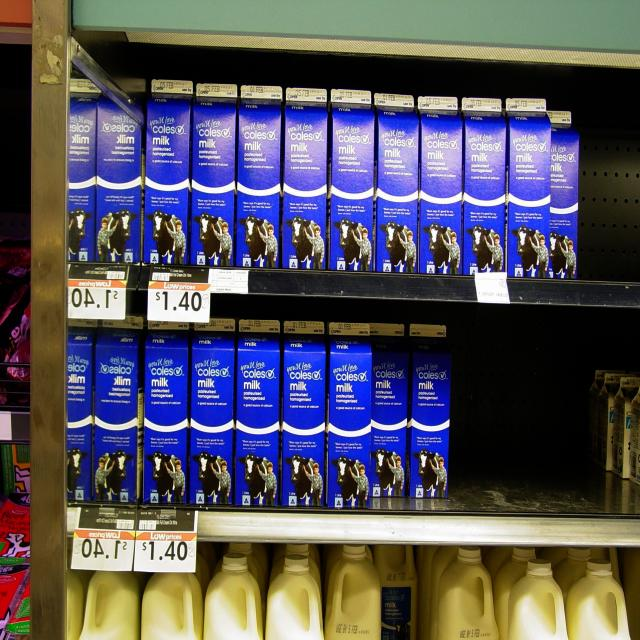empty_space: (458, 344, 586, 518), (581, 125, 639, 283)
